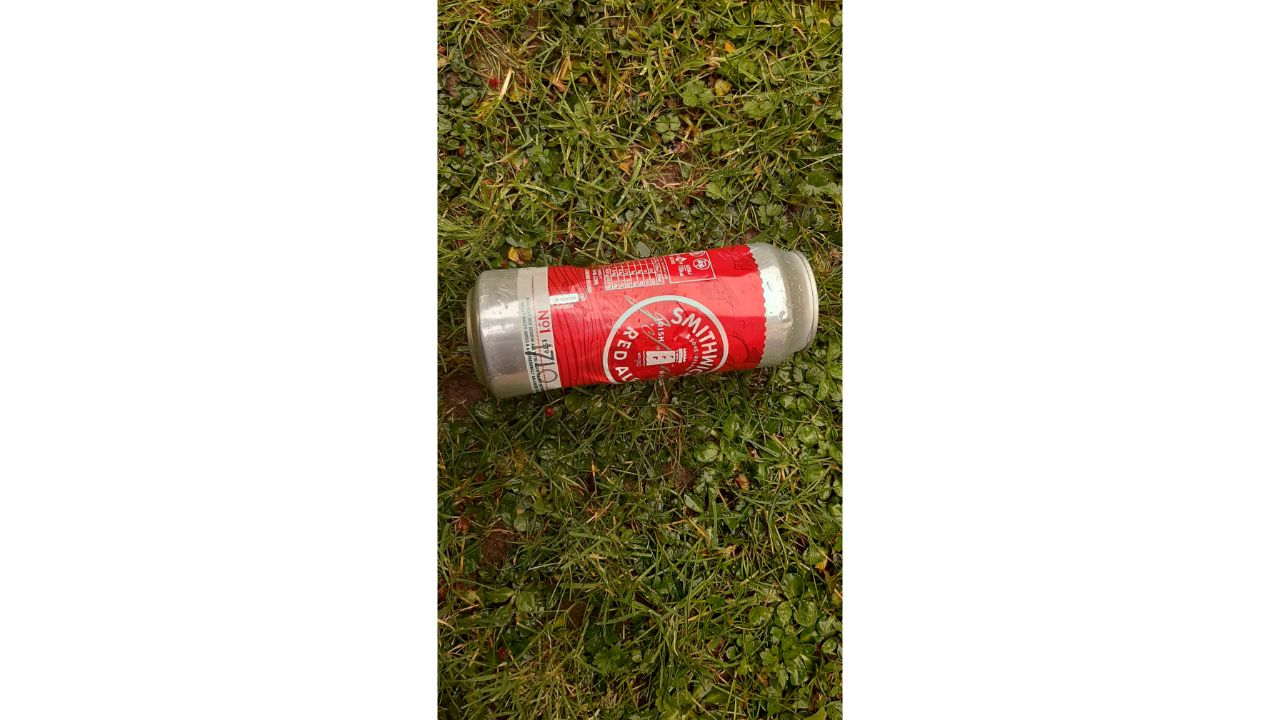Can: (461, 241, 822, 400)
